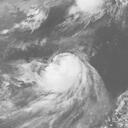cyclone: (36, 52, 93, 103)
